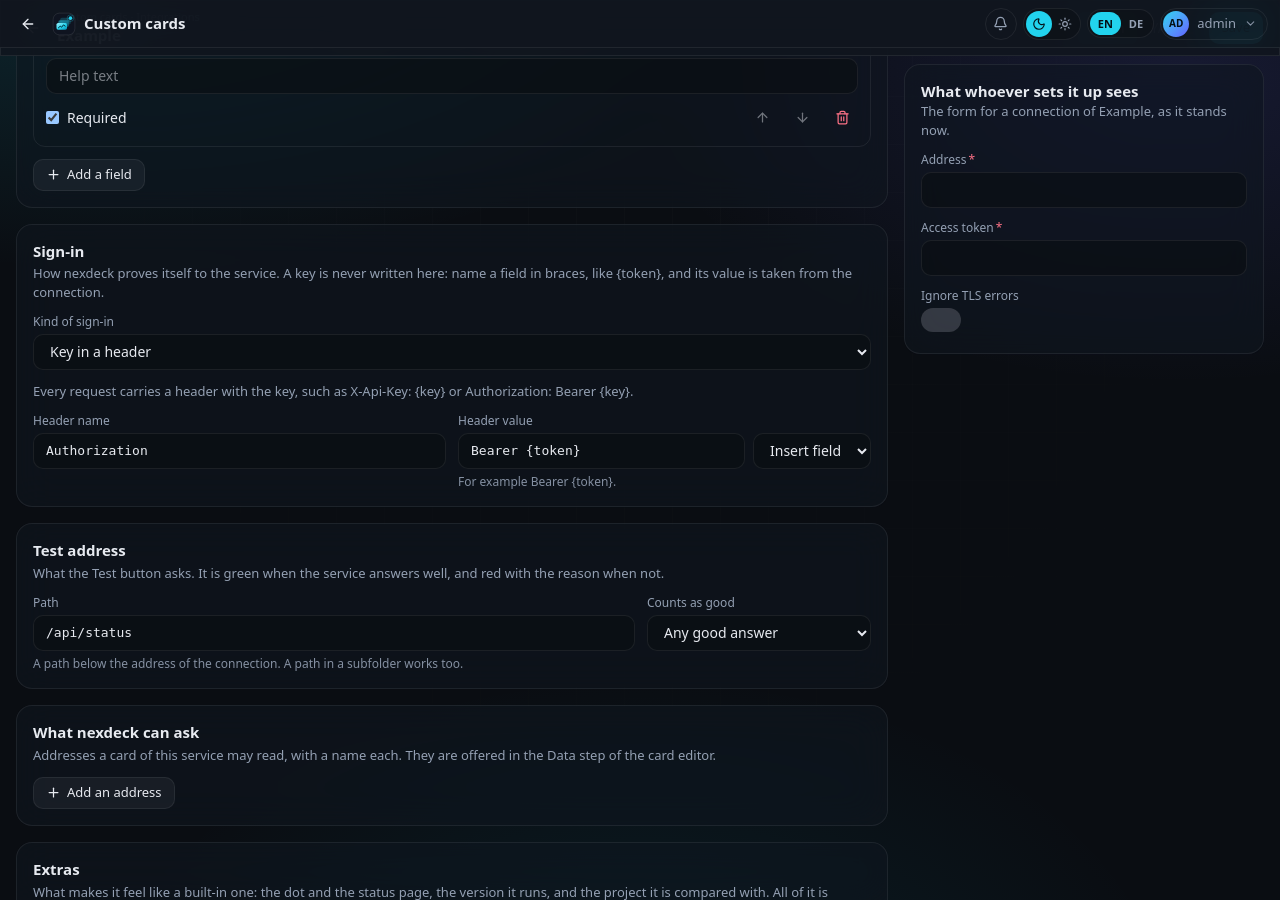
Test case: the sign-in › karten3 ac3: key in a header names the header and the value, with the fields to choose from
(page scrolled)
Expected: the text with test id "integration-auth-explained" shows "Every request carries a header with the key", [33, 382, 634, 400]
Replace the text in the field labelled "Header name" with "X-Api-Key" at (240, 451), box [33, 433, 446, 469]
(page scrolled)
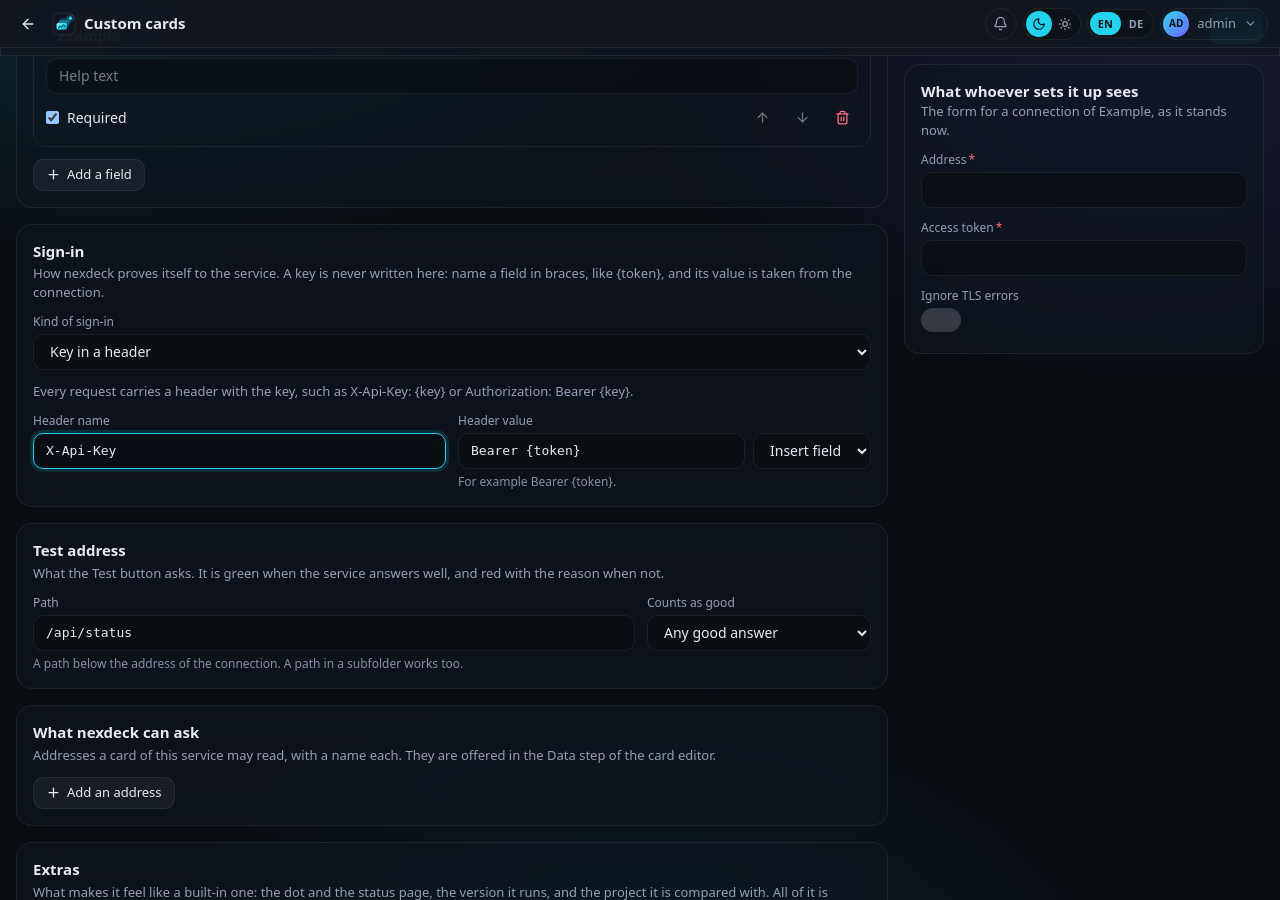
Clear the field labelled "Header value" at (602, 451), box [458, 433, 745, 469]
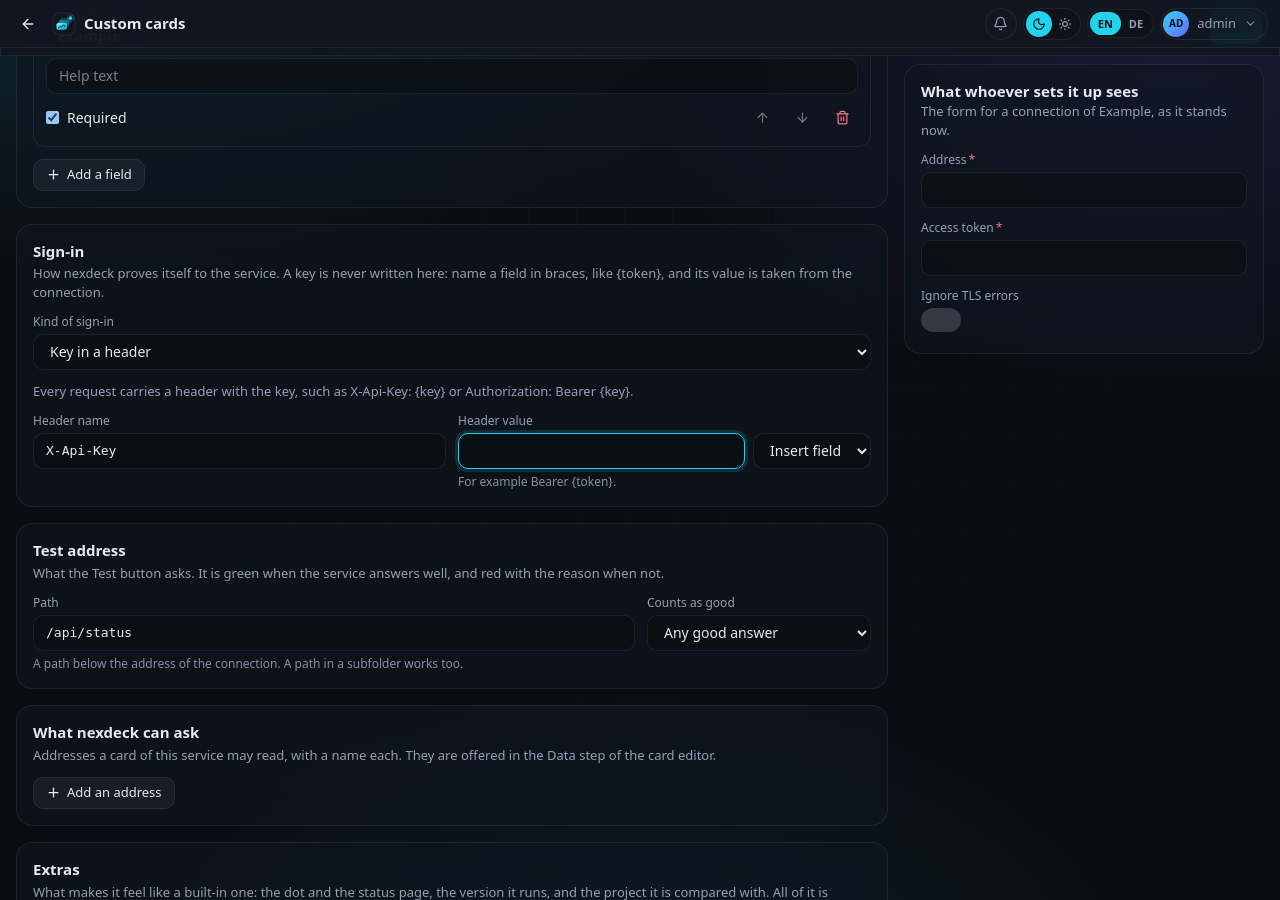
Select "{token}" in the dropdown named "Insert a field into Header value" at (812, 451), box [753, 433, 871, 469]
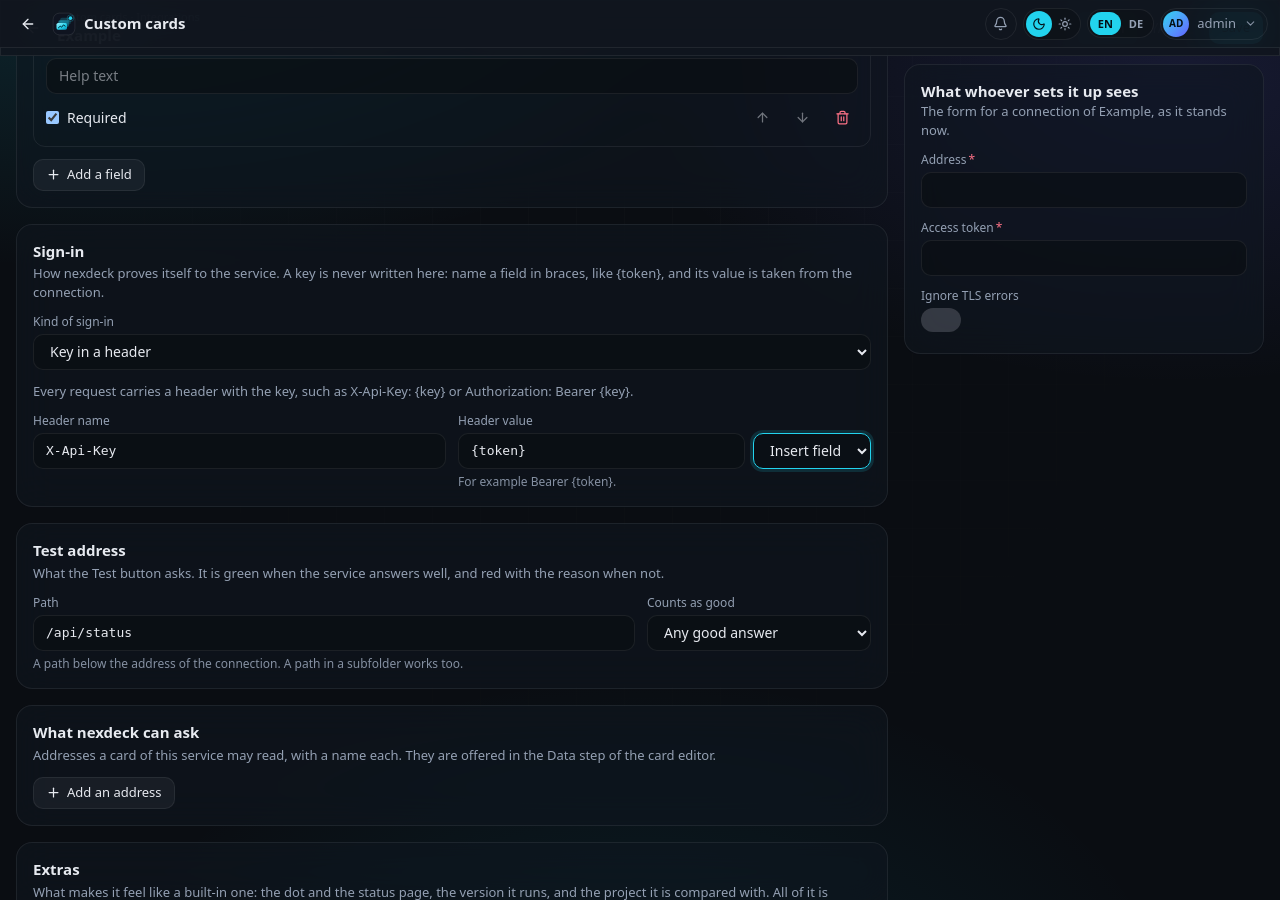
Now the field labelled "Header value" holds "{token}", box [458, 433, 745, 469]
